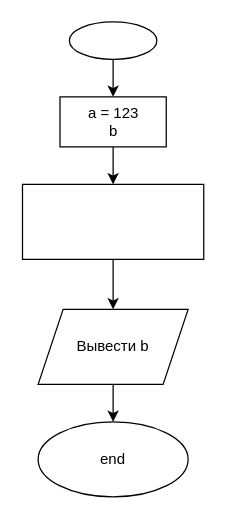
Image size: 225x519. Some labels were removed from this diagram. The box of each missing label's shape, as (x1, y1, x2, y2) in pixels:
b = (a mod 100) div 10: (21, 183, 204, 259)
start: (68, 21, 157, 59)
